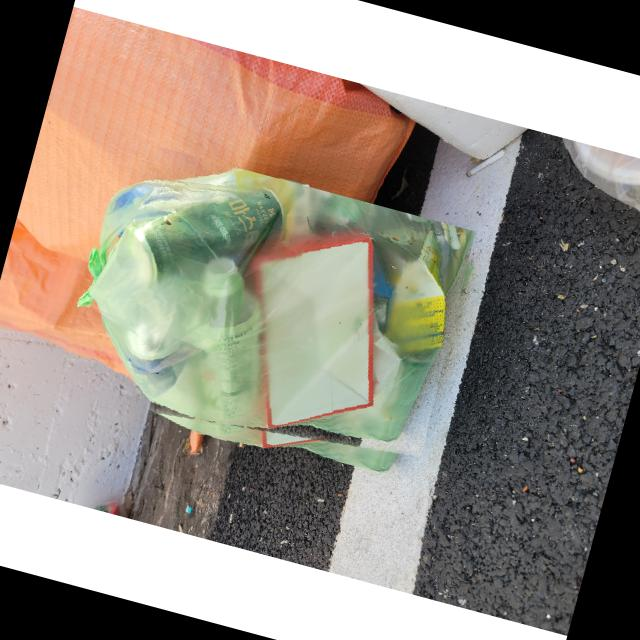general_trashbag: (78, 167, 475, 446)
